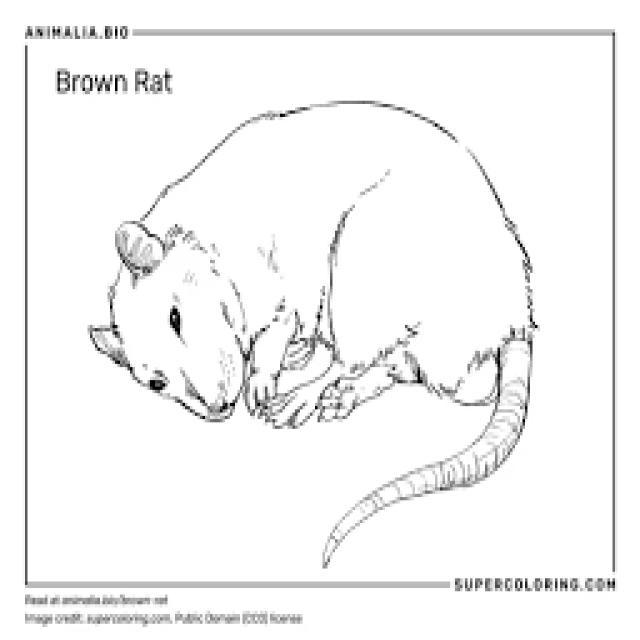Rat: (94, 86, 612, 510)
